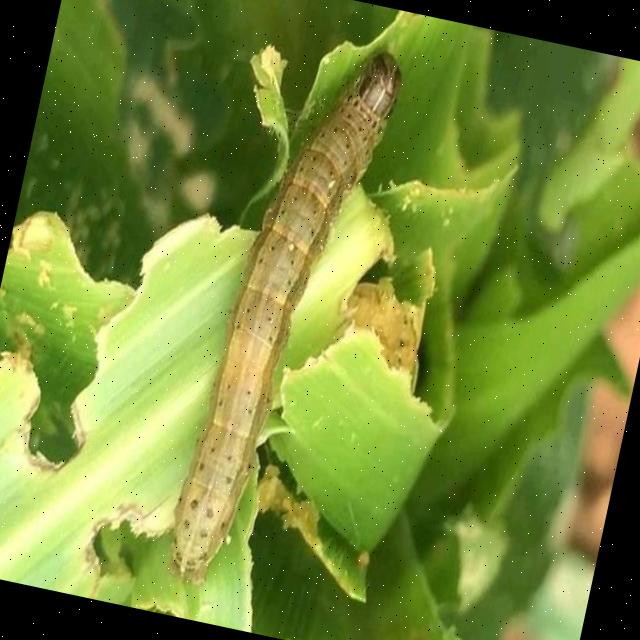worm: (158, 29, 409, 608)
